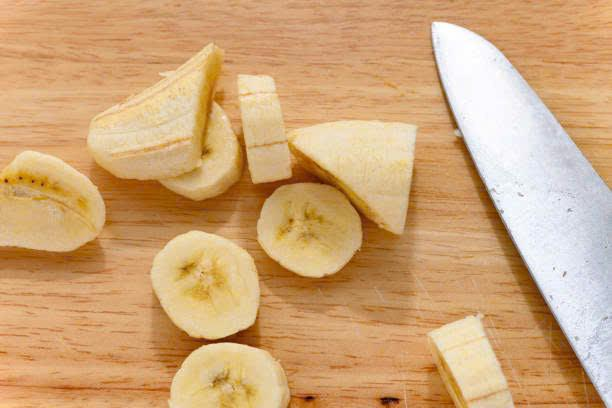banana: (0, 140, 115, 261), (420, 310, 531, 408), (258, 186, 368, 284), (159, 236, 261, 335), (173, 334, 289, 408)
